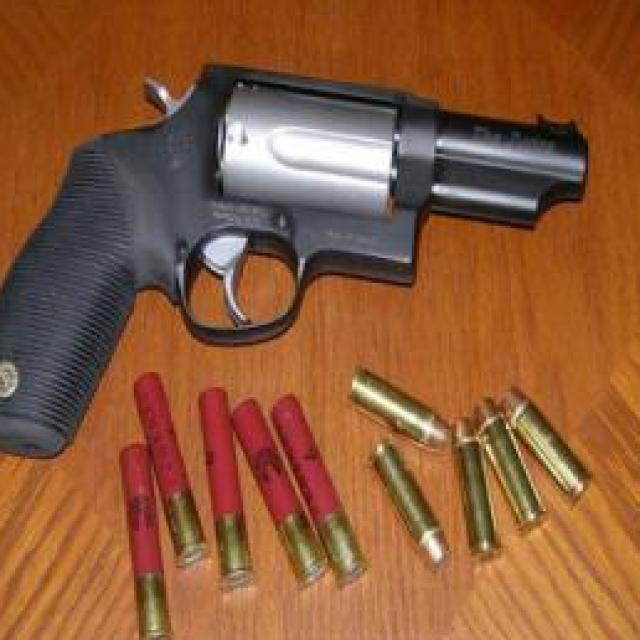pistol: (0, 59, 593, 459)
